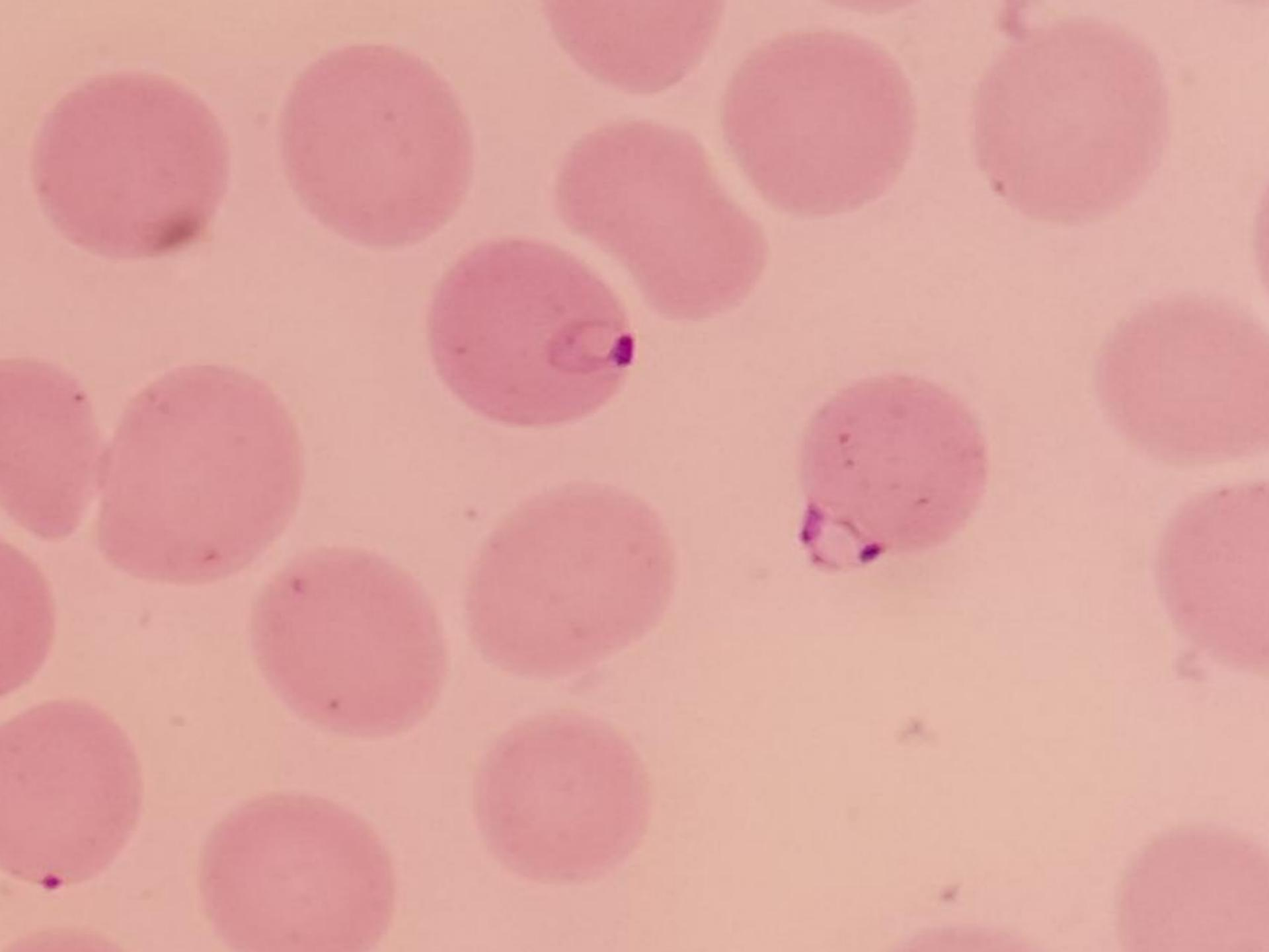Infected: (793, 360, 978, 582), (427, 232, 633, 423)
Uninfected: (93, 373, 295, 583), (467, 479, 670, 680), (278, 43, 470, 250), (557, 124, 762, 317), (251, 549, 454, 743), (33, 69, 229, 259), (974, 27, 1166, 219), (720, 36, 911, 220), (467, 705, 658, 879), (187, 798, 392, 952), (1097, 294, 1269, 466), (0, 703, 137, 892), (0, 340, 109, 539)
